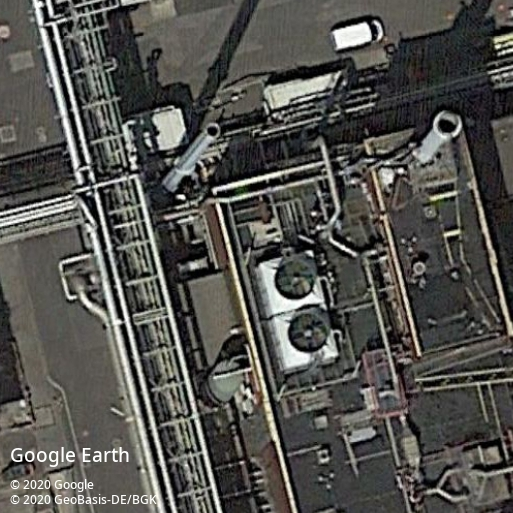Vent: (274, 260, 315, 300), (287, 313, 327, 353)
